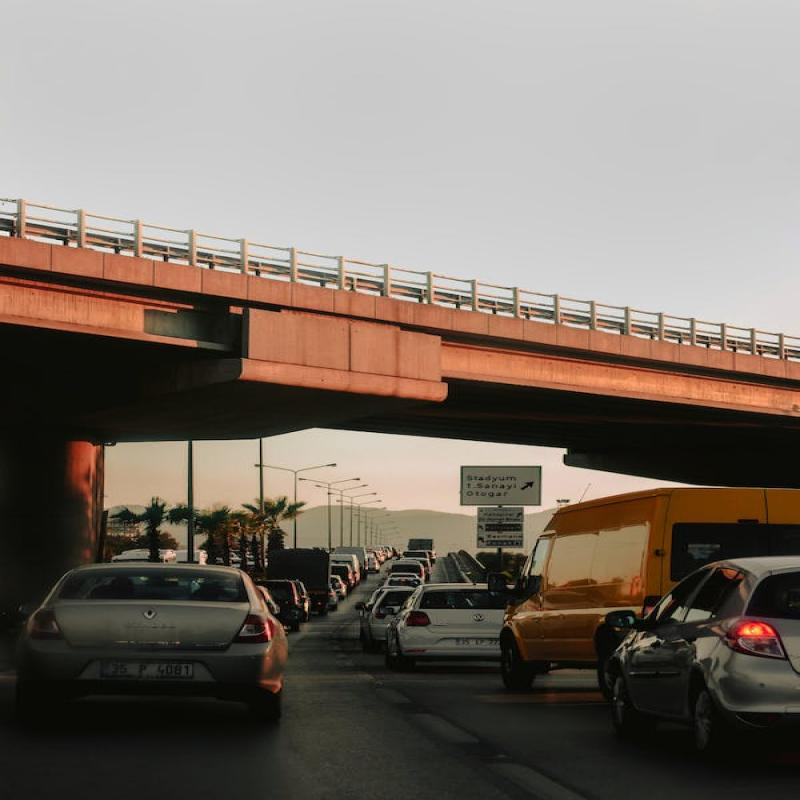car: (25, 532, 318, 729), (592, 556, 800, 741), (384, 576, 546, 675)
